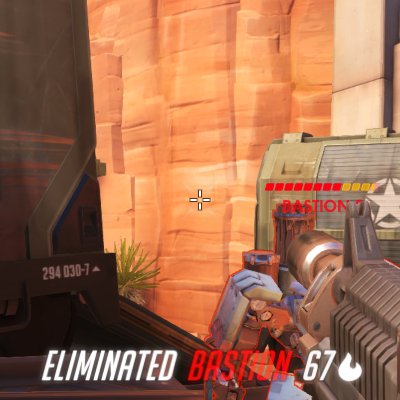hpbar: (264, 182, 381, 191)
